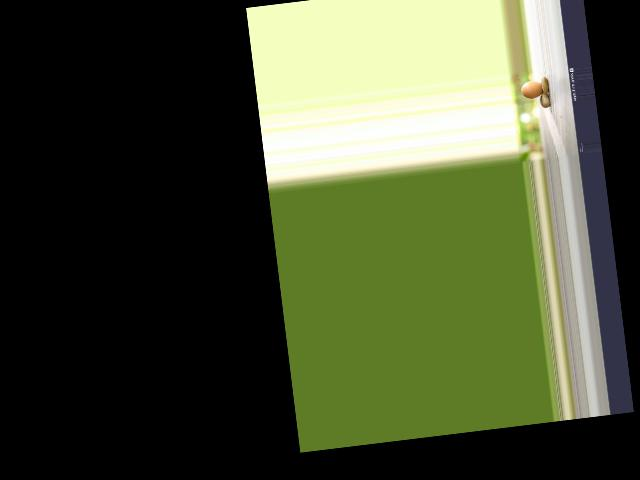egg: (520, 80, 543, 100)
